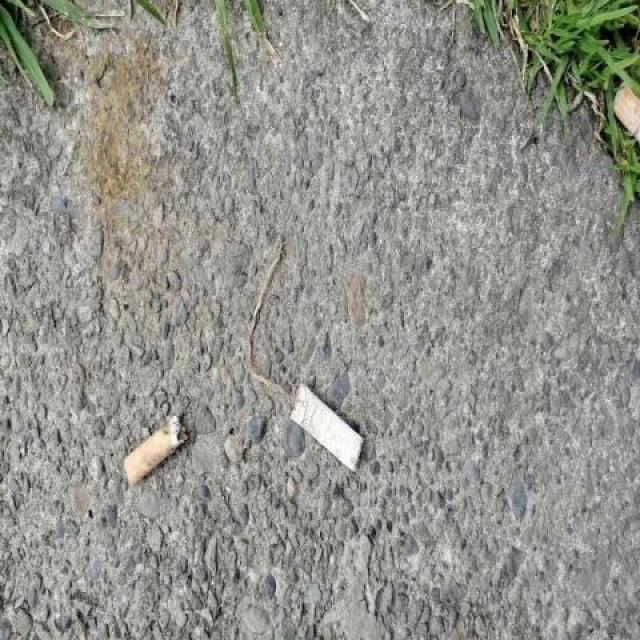non-organic waste: (286, 376, 367, 477), (120, 411, 192, 490)
